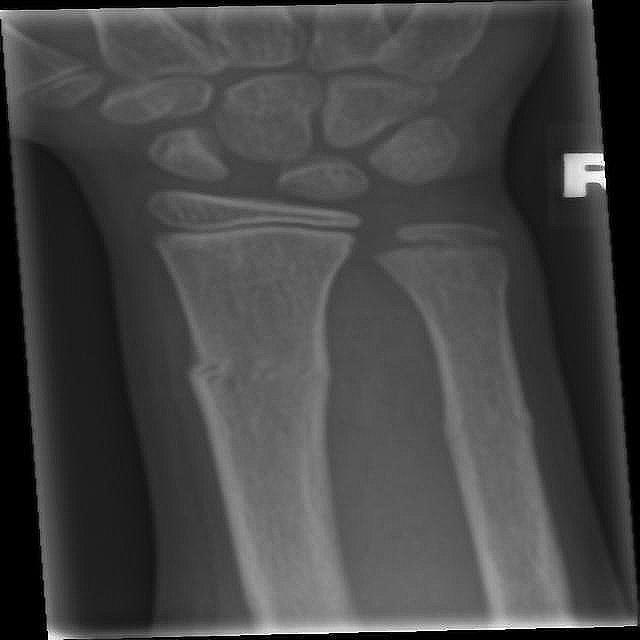bone: (180, 346, 344, 405), (438, 398, 541, 459), (386, 262, 515, 297)
